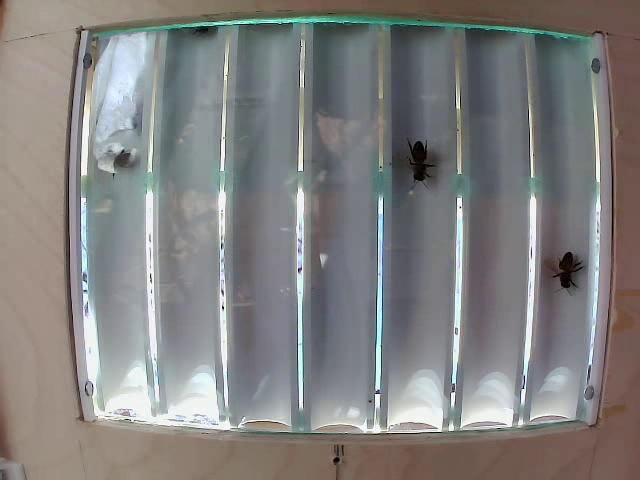bee: (552, 234, 583, 303), (402, 122, 427, 192)
